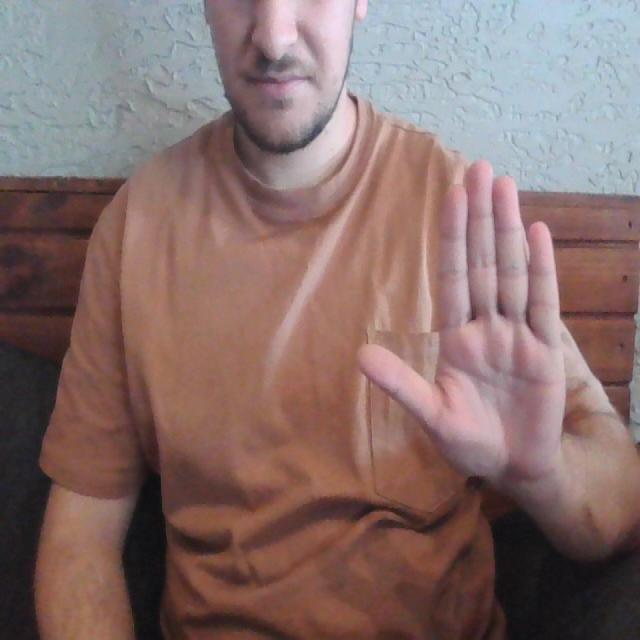Dur: (343, 148, 586, 506)
